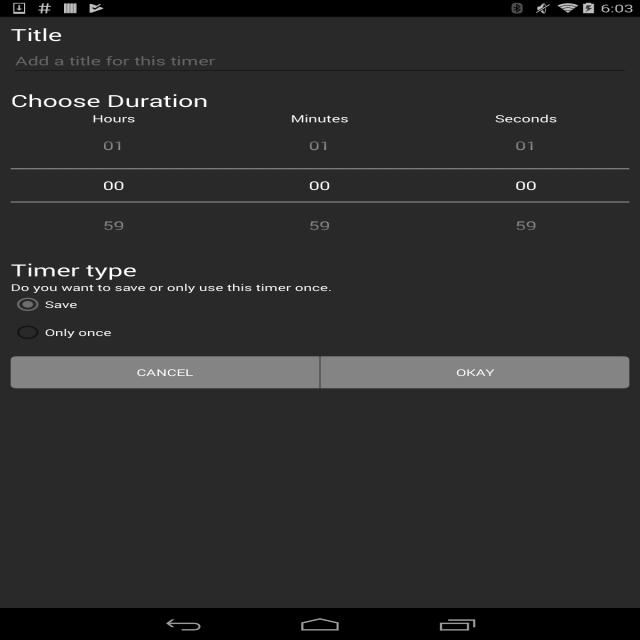Button: (320, 356, 630, 388), (11, 356, 320, 388), (216, 126, 423, 170), (216, 202, 423, 246), (10, 126, 216, 170), (10, 202, 216, 246), (423, 126, 629, 170), (423, 202, 629, 246)
EditText: (11, 46, 629, 76), (216, 170, 423, 202), (10, 170, 216, 202), (423, 170, 629, 202)
RadioButton: (10, 322, 111, 343), (11, 294, 77, 315)
TextView: (11, 23, 629, 46), (11, 89, 629, 112), (11, 259, 629, 281), (11, 281, 629, 294), (216, 112, 423, 125), (10, 112, 216, 125), (423, 112, 629, 125)
